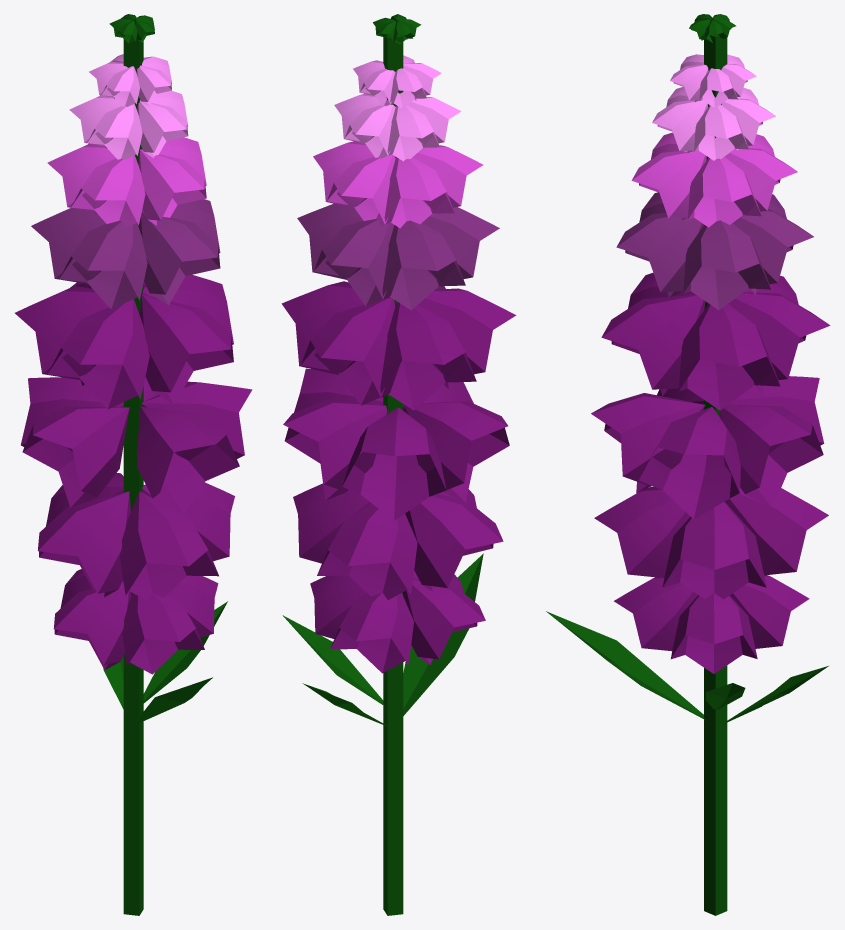
The model's file is flower1.obj.
The picture shows the model from 3 angles, left to right: view 1: azimuth 30°, elevation 25°; view 2: azimuth 150°, elevation 25°; view 3: azimuth 270°, elevation 25°; orthographic projection.
Visible parts, largest first — view 1: polySurface49; view 2: polySurface49; view 3: polySurface49.
Boxes of the visible parts, left/top/right/bottom form: polySurface49: left=15, top=14, right=252, bottom=915; polySurface49: left=281, top=14, right=516, bottom=915; polySurface49: left=546, top=14, right=830, bottom=915.
Size of the model in its own units: 1.57 by 6.36 by 1.85.
